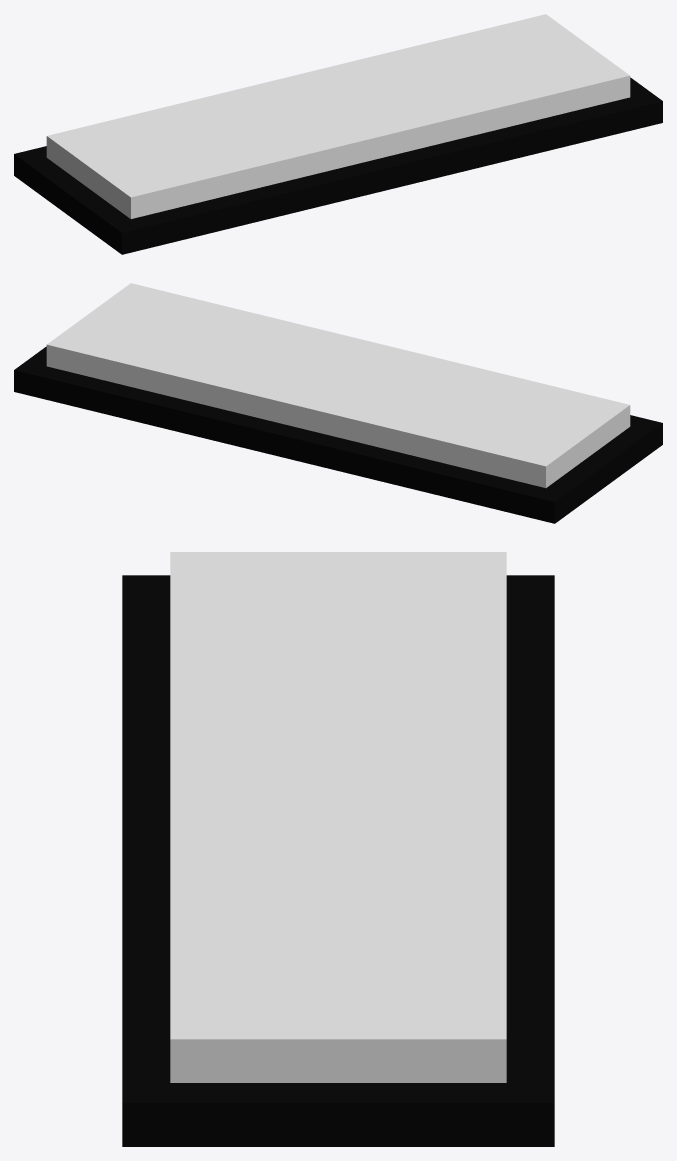
The model's file is button.obj.
3 views of the same model, one above another, from view 1: azimuth 30°, elevation 25°; view 2: azimuth 150°, elevation 25°; view 3: azimuth 270°, elevation 25° (orthographic). The views are drawn at different scales.
Bounding box in the file's own units: 2.6 × 0.2 × 0.9.
1 material, 1 textured.
